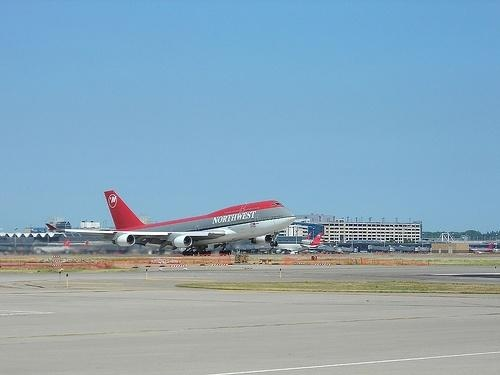aeroplane: (41, 184, 291, 257)
